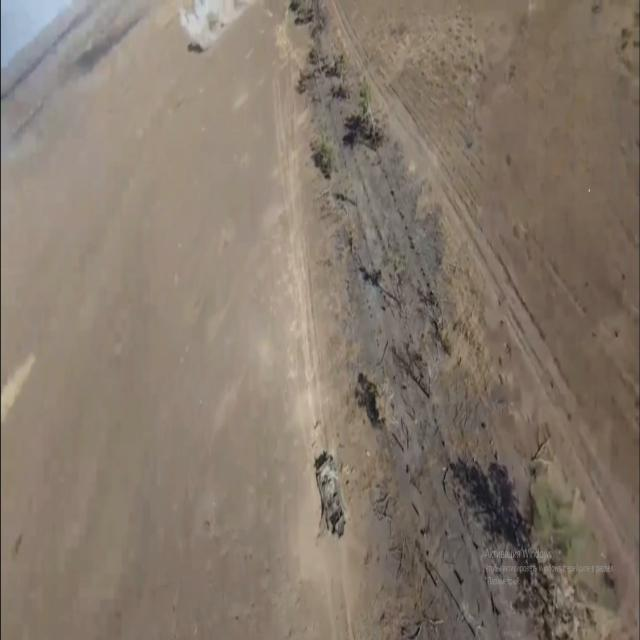AIFV: (314, 451, 349, 549)
